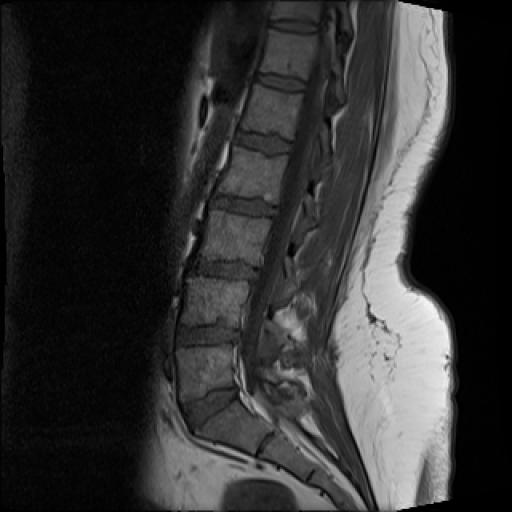L1: (242, 84, 303, 140)
L2: (220, 147, 288, 202)
L3: (201, 210, 269, 266)
L4: (182, 280, 249, 328)
L5: (176, 345, 233, 402)
S1: (197, 400, 272, 454)
